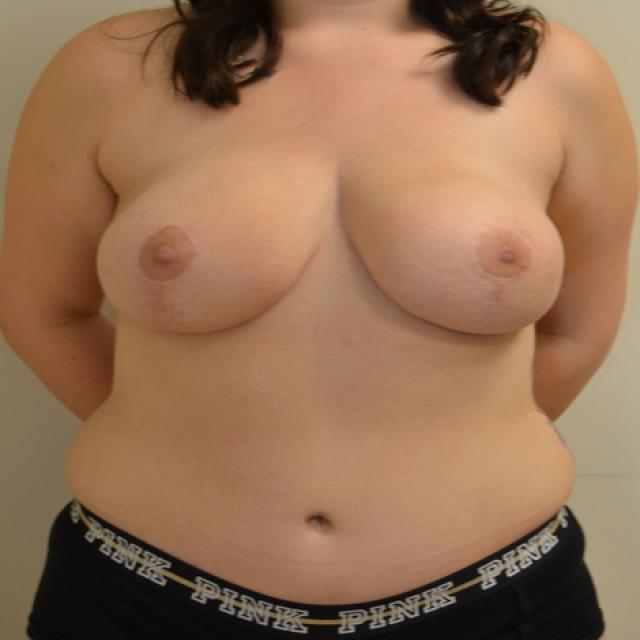Seno herido: (90, 138, 330, 350), (338, 140, 572, 348)
